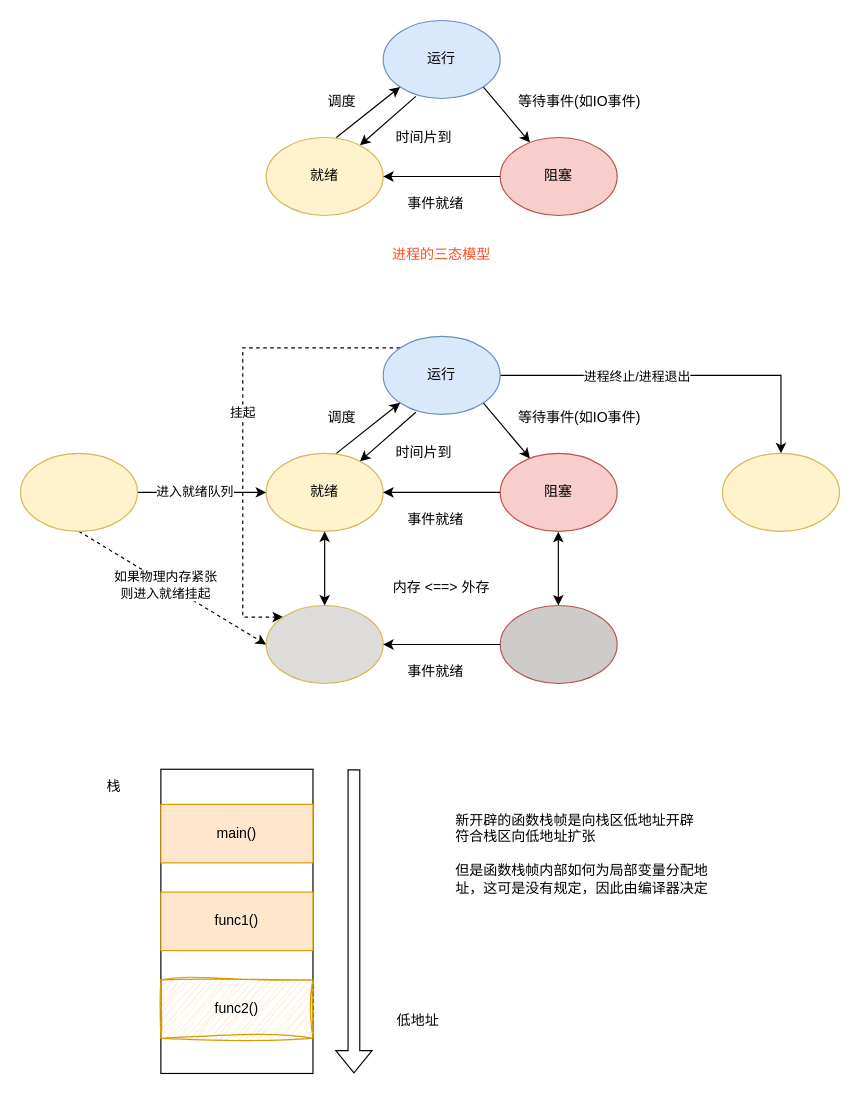
Some shapes in this 860 by 1094 pixel diagram are drawn without their labels. The shapes that lost their labels are listed below. From the top down, each one's centre as x and y in pixels, then its label:
At point (78, 491): "创建".
At point (780, 491): "结束".
At point (324, 644): "就绪挂起".
At point (558, 644): "阻塞挂起".
